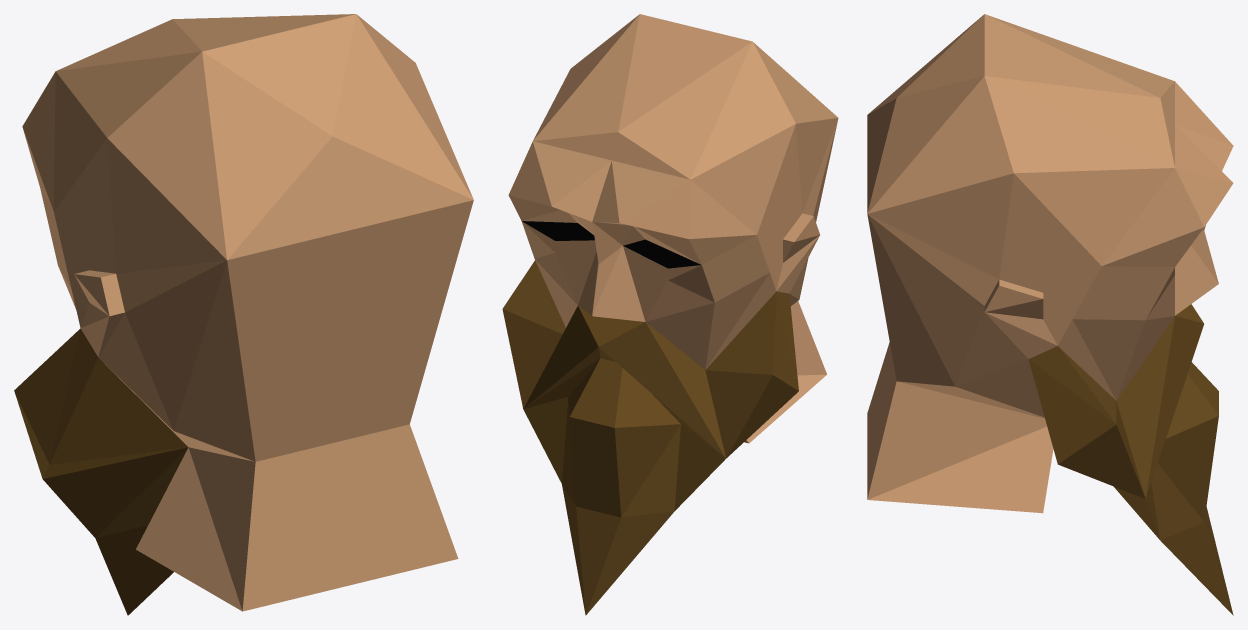
The model's file is npc_world_stankers_0.obj.
3 views of the same model, side by side, from view 1: azimuth 30°, elevation 25°; view 2: azimuth 150°, elevation 25°; view 3: azimuth 270°, elevation 25° (orthographic). The views are drawn at different scales.
Size of the model in its own units: 0.1875 by 0.3359 by 0.1953.
